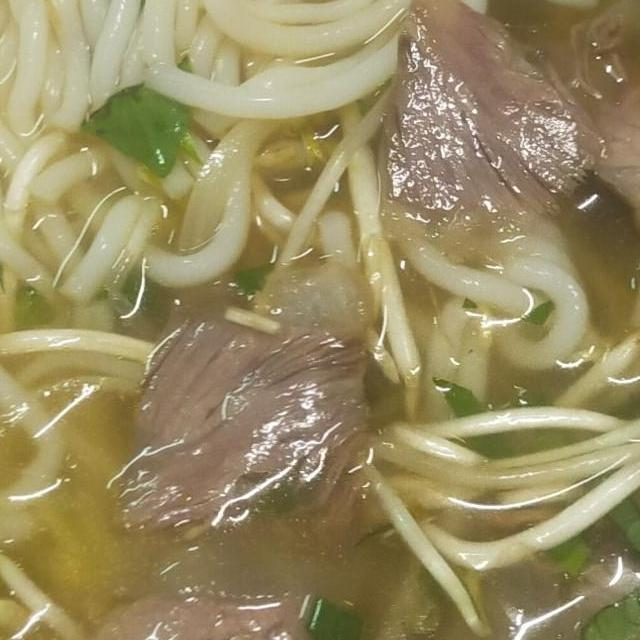bun: (0, 0, 461, 357), (0, 298, 157, 640), (372, 216, 592, 440)
bun bo: (0, 0, 640, 640)
thit bo: (102, 240, 400, 558), (366, 0, 640, 265), (0, 548, 363, 640)
